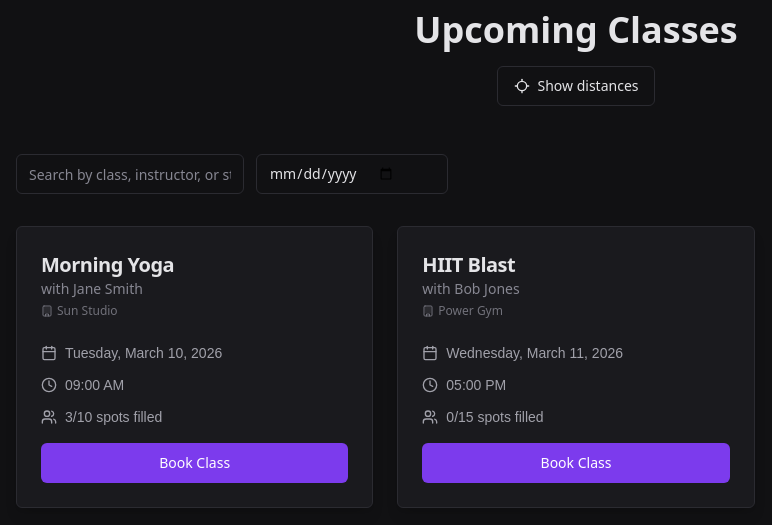
Test: ClassSchedule › clears all filters and restores full list when clear is clicked
Type "yoga" into the field with placeholder "Search by class, instructor, or studio..." at (130, 174), box [16,154,244,194]
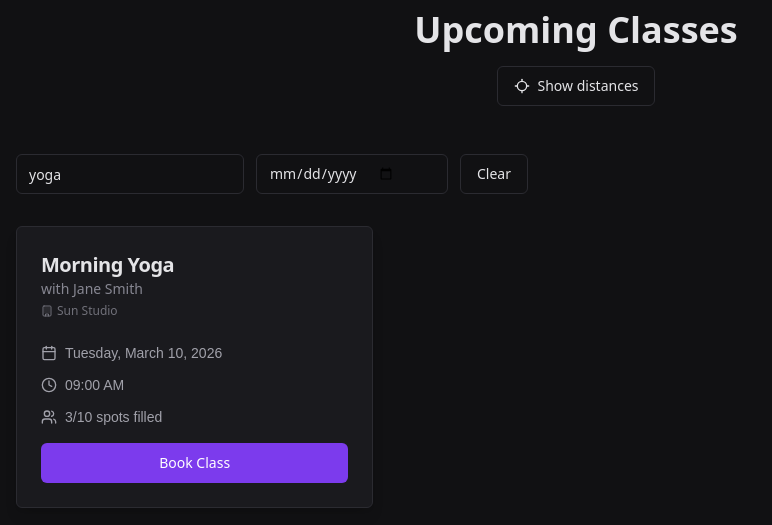
expect the heading "HIIT Blast" is gone: met
Click the button "Clear" at (494, 174), box [460,154,528,194]
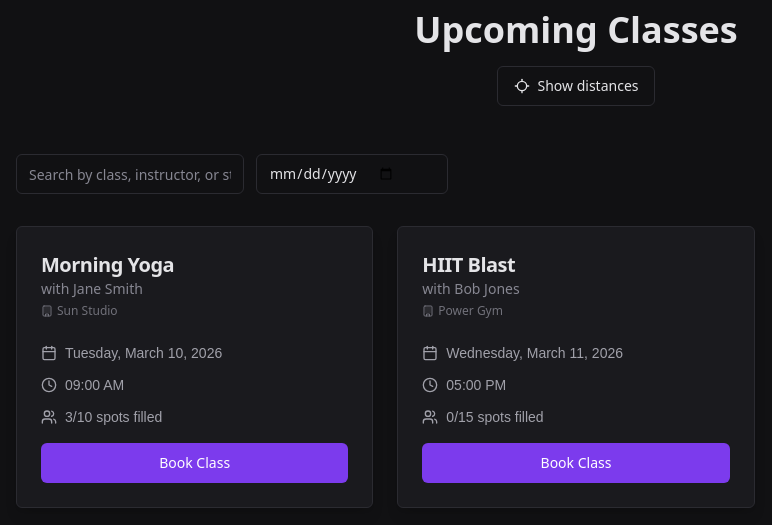
expect the heading "HIIT Blast" is shown: met, box [422,251,520,279]
expect the button "Clear" is gone: met
